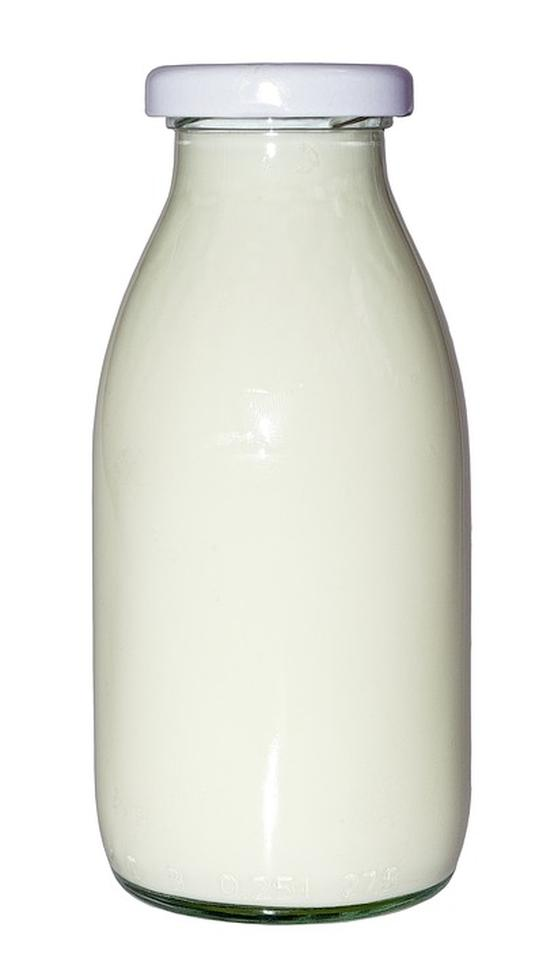milk: (87, 63, 468, 927)
